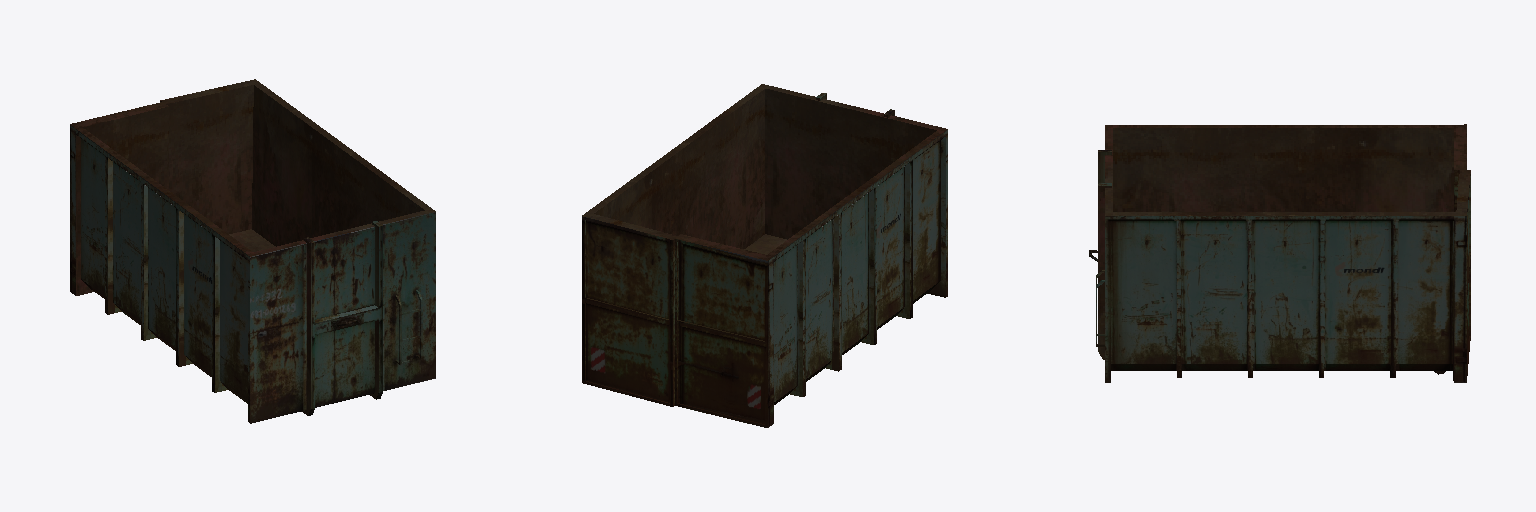
3 renders of one model, left to right at view 1: azimuth 30°, elevation 25°; view 2: azimuth 150°, elevation 25°; view 3: azimuth 270°, elevation 25°, orthographic.
Parts seen in each view (by area): view 1: Cube.019_Material.001_0; view 2: Cube.019_Material.001_0; view 3: Cube.019_Material.001_0.
Boxes of the visible parts, x1=… form: Cube.019_Material.001_0: x1=70, y1=79, x2=435, y2=423; Cube.019_Material.001_0: x1=582, y1=84, x2=947, y2=427; Cube.019_Material.001_0: x1=1089, y1=124, x2=1470, y2=382.
Size of the model in its own units: 2.64 by 2.39 by 4.69.
Materials: 1 (1 with a texture image).